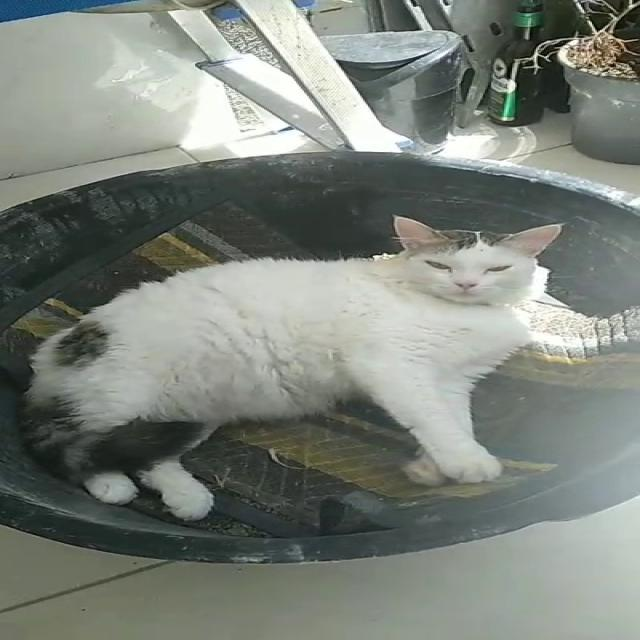Simba: (32, 198, 592, 547)
